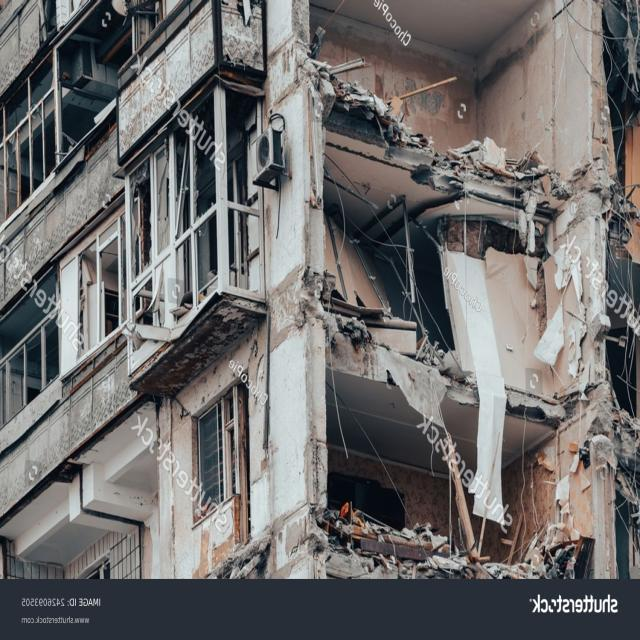Destroyed_building: (0, 3, 635, 577)
